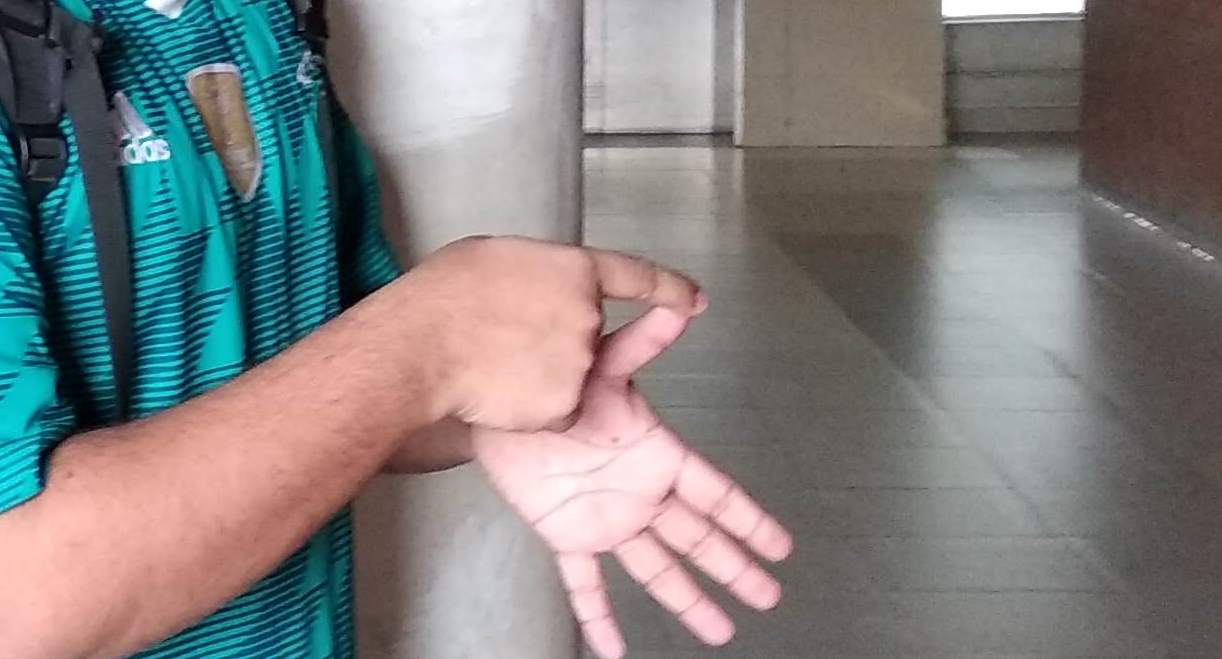a: (463, 232, 826, 640)
